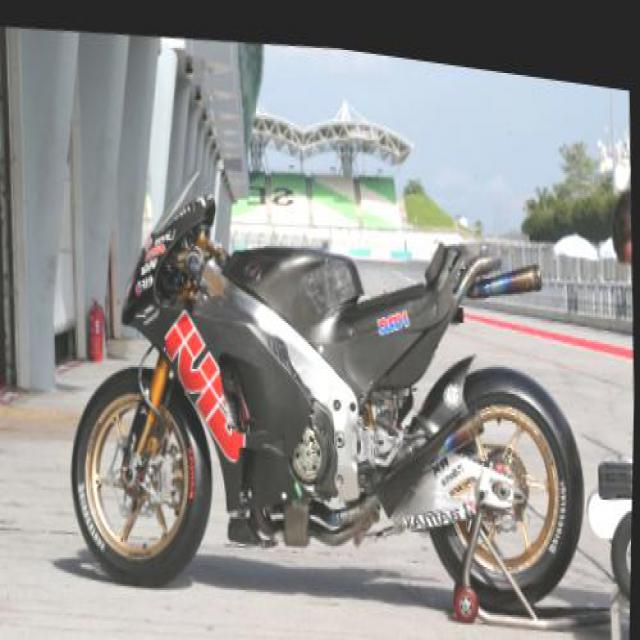HRC RCV 213: (59, 110, 595, 638)
